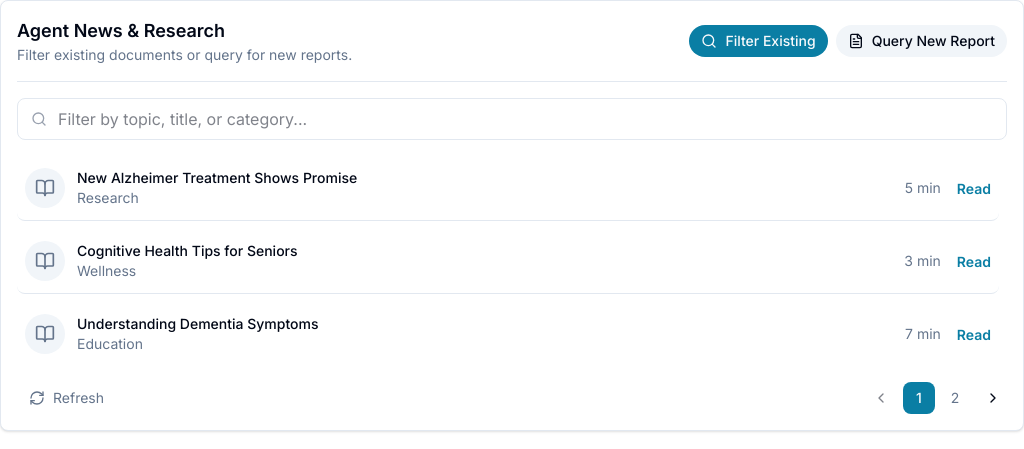
Test case: NewsFeed › navigates to next page when next button clicked
Expected: the text "New Alzheimer Treatment Shows Promise" is shown, [77,168,357,188]
Click next page button
Click the button named "Next page": (993, 398) [979,384,1007,412]
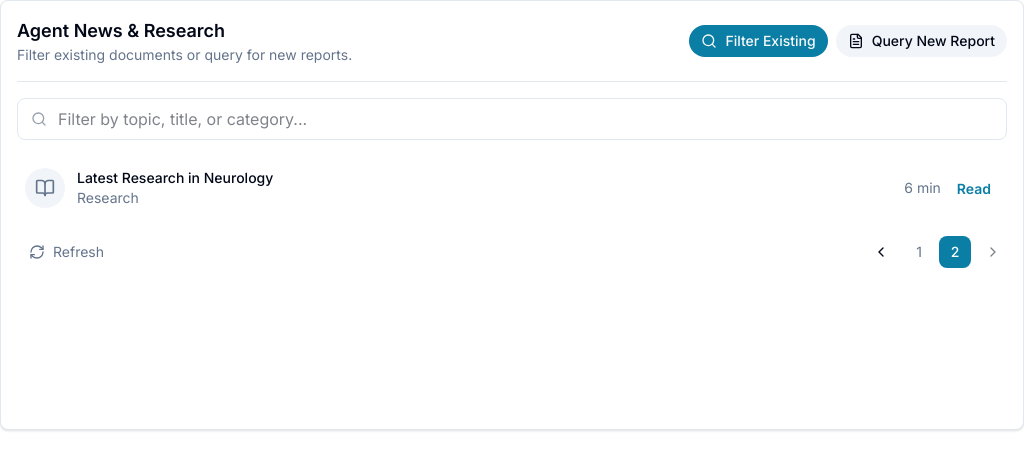
Expected: the text "Latest Research in Neurology" is shown, [77,168,273,188]
Expected: the text "New Alzheimer Treatment Shows Promise" is gone
